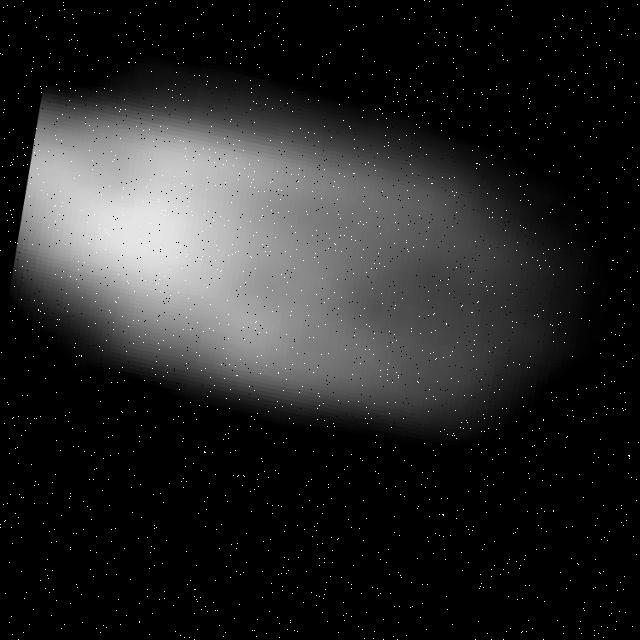person: (1, 21, 602, 474)
